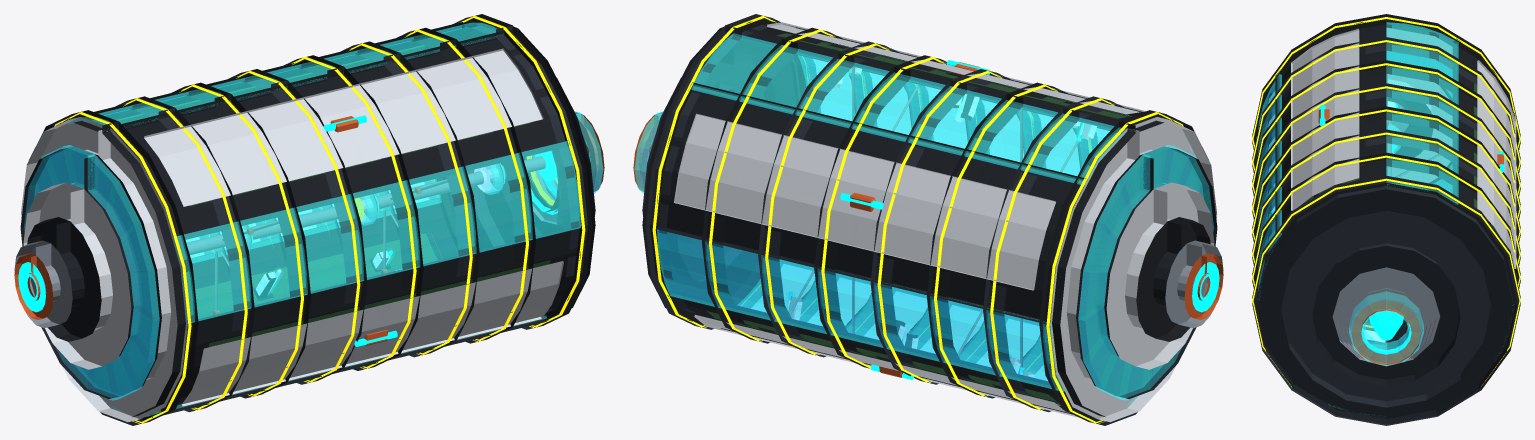
The picture shows the model from 3 angles, left to right: view 1: azimuth 30°, elevation 25°; view 2: azimuth 150°, elevation 25°; view 3: azimuth 270°, elevation 25°; orthographic projection. The views are drawn at different scales.
Visible parts, largest first — view 1: Cyl04_gunmetal, Cyl04_aero_white, Cyl04_glass_cyan, Cyl04_carbon_slate, Cyl04_led_amber, Cyl04_foliage, Cyl04_steel_machined, Cyl04_accent_orange, Cyl04_led_cyan; view 2: Cyl04_gunmetal, Cyl04_glass_cyan, Cyl04_aero_white, Cyl04_carbon_slate, Cyl04_led_amber, Cyl04_steel_machined, Cyl04_foliage, Cyl04_accent_orange, Cyl04_led_cyan, Cyl04_window_lit; view 3: Cyl04_gunmetal, Cyl04_carbon_slate, Cyl04_aero_white, Cyl04_glass_cyan, Cyl04_led_amber, Cyl04_steel_machined, Cyl04_accent_orange, Cyl04_led_cyan, Cyl04_foliage.
Part boxes in pixels (x1,y1,x2,y2): Cyl04_gunmetal: [20, 20, 595, 425]; Cyl04_aero_white: [20, 48, 563, 422]; Cyl04_glass_cyan: [24, 22, 603, 416]; Cyl04_carbon_slate: [115, 14, 595, 412]; Cyl04_led_amber: [54, 16, 585, 423]; Cyl04_foliage: [116, 45, 550, 347]; Cyl04_steel_machined: [14, 119, 596, 328]; Cyl04_accent_orange: [14, 112, 604, 345]; Cyl04_led_cyan: [18, 115, 590, 346]; Cyl04_gunmetal: [642, 19, 1217, 425]; Cyl04_glass_cyan: [634, 33, 1213, 405]; Cyl04_aero_white: [674, 22, 1217, 422]; Cyl04_carbon_slate: [642, 14, 1123, 412]; Cyl04_led_amber: [652, 16, 1183, 423]; Cyl04_steel_machined: [641, 67, 1223, 367]; Cyl04_foliage: [707, 33, 1131, 404]; Cyl04_accent_orange: [633, 62, 1223, 377]; Cyl04_led_cyan: [647, 60, 1219, 379]; Cyl04_window_lit: [787, 68, 1096, 377]; Cyl04_gunmetal: [1252, 14, 1520, 424]; Cyl04_carbon_slate: [1252, 37, 1520, 425]; Cyl04_aero_white: [1256, 28, 1516, 268]; Cyl04_glass_cyan: [1258, 22, 1513, 416]; Cyl04_led_amber: [1252, 17, 1520, 386]; Cyl04_steel_machined: [1332, 74, 1440, 365]; Cyl04_accent_orange: [1318, 105, 1503, 364]; Cyl04_led_cyan: [1271, 102, 1504, 354]; Cyl04_foliage: [1268, 39, 1498, 242].
Bounding box in the file's own units: 800 × 400 × 400.
Materials: 12 (12 with a texture image).
